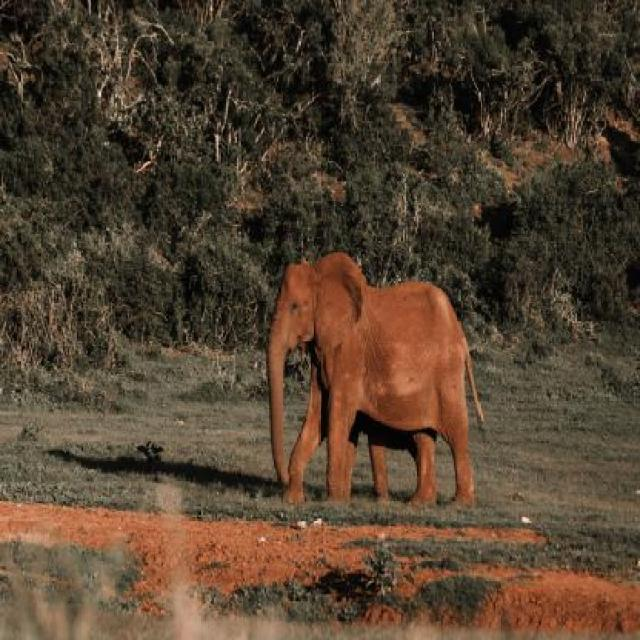Elephant: (264, 247, 499, 516)
